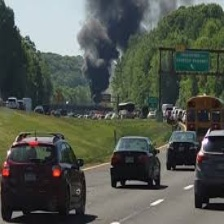smoke: (78, 2, 123, 101)
